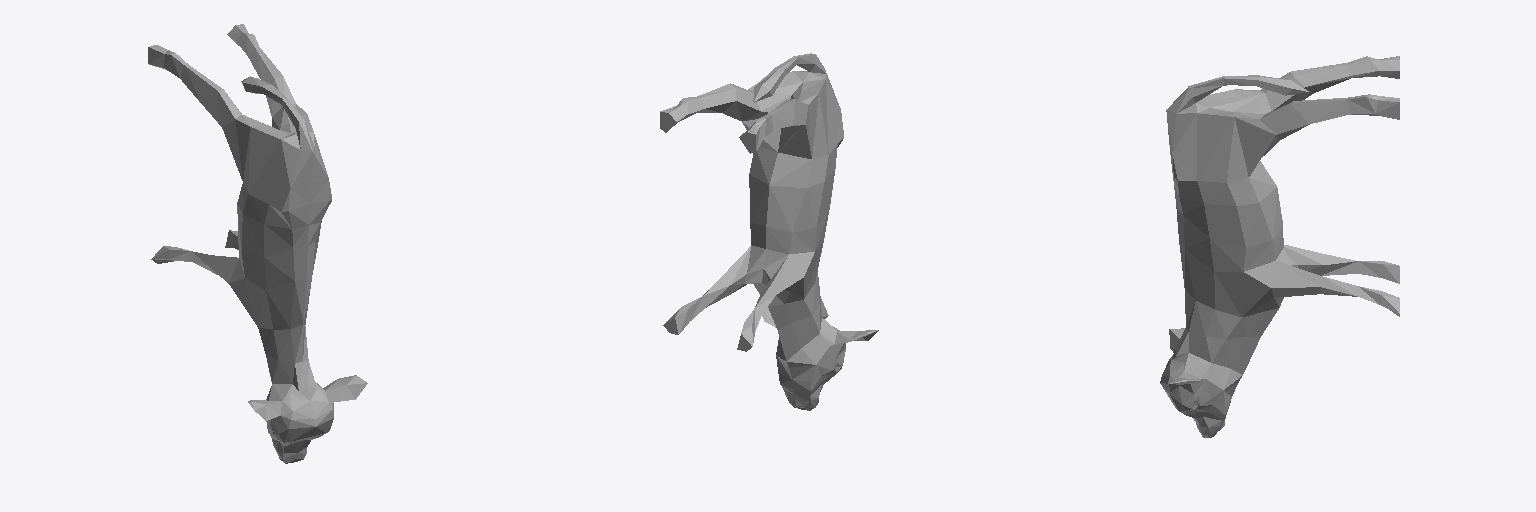
The model's file is Calf.obj.
The picture shows the model from 3 angles: view 1: azimuth 30°, elevation 25°; view 2: azimuth 150°, elevation 25°; view 3: azimuth 270°, elevation 25°; orthographic projection.
Visible parts, largest first — view 1: body, hoofs; view 2: body, hoofs, tail; view 3: body, hoofs, tail.
Part boxes in pixels (x1,y1,x2,y2): body: (164, 32, 367, 463); hoofs: (148, 24, 247, 263); body: (677, 53, 877, 410); hoofs: (660, 106, 763, 351); tail: (753, 68, 784, 102); body: (1160, 56, 1382, 437); hoofs: (1376, 56, 1399, 316); tail: (1256, 75, 1308, 95).
Bounding box in the file's own units: 2.07 × 6.27 × 3.8.